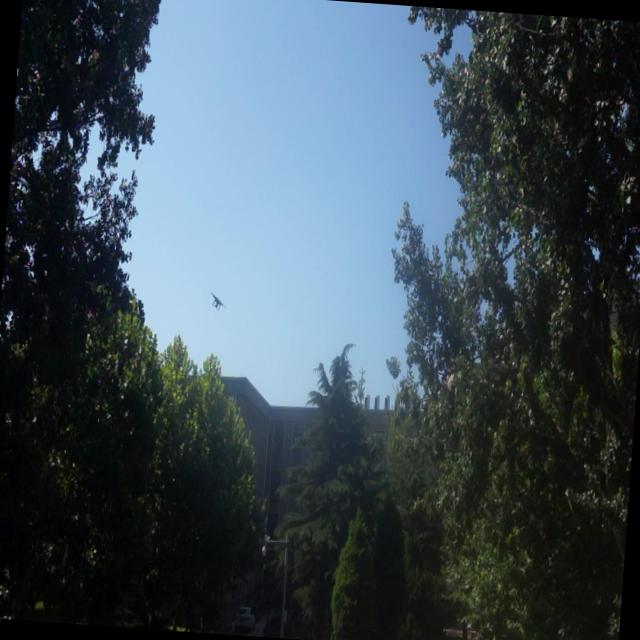drone: (207, 288, 228, 316)
